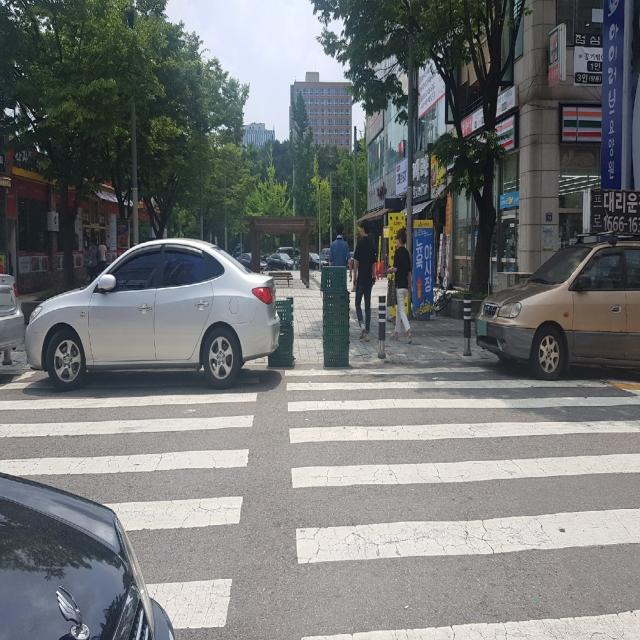횡단보도: (0, 363, 640, 640)
